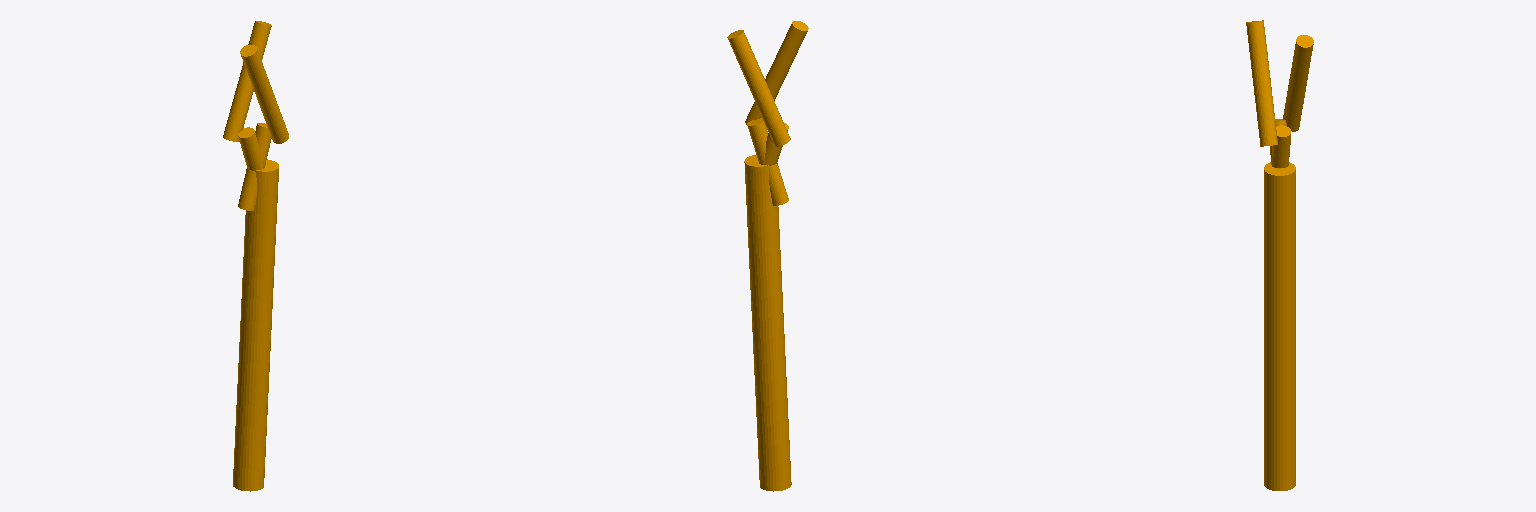
URDF robot description (lance_longinus):
<robot name="lance_longinus">
  <link name="base_link">
    <visual>
      <geometry>
        <cylinder length="0.2" radius="0.009"/>
      </geometry>
      <origin rpy="0 0.05 0" xyz="0 0 0.1"/>
    </visual>
    <visual>
      <geometry>
        <cylinder length="0.05" radius="0.005"/>
      </geometry>
      <origin rpy="0 0.3 0.2" xyz="0 0 0.2"/>
    </visual>
    <visual>
      <geometry>
        <cylinder length="0.05" radius="0.005"/>
      </geometry>
      <origin rpy="0 -0.3 0.2" xyz="0 0 0.2"/>
    </visual>
    <visual>
      <geometry>
        <cylinder length="0.07" radius="0.005"/>
      </geometry>
      <origin rpy="0 0.4 0.3" xyz="0 0.01 0.25"/>
    </visual>
    <visual>
      <geometry>
        <cylinder length="0.07" radius="0.005"/>
      </geometry>
      <origin rpy="0 -0.4 0.3" xyz="0 -0.01 0.25"/>
    </visual>
  </link>
</robot>

--- What the picture shows (computed from the rendered views, not written in the file) ---
The picture shows the robot from 3 angles, left to right: view 1: azimuth 30°, elevation 25°; view 2: azimuth 150°, elevation 25°; view 3: azimuth 270°, elevation 25°; orthographic projection.
Robot: lance_longinus — 1 links, 0 joints (none); root link base_link; default pose: every joint at zero.
Links seen in each view (by area): view 1: base_link; view 2: base_link; view 3: base_link.
Boxes of the visible links, x1,y1,x2,y2 form: base_link: (223,21,288,491); base_link: (727,21,808,491); base_link: (1246,20,1313,490).
Size in the robot's own frame: 0.0353 by 0.038 by 0.2845 metres.
Geometry: primitives only (box / cylinder / sphere), no mesh files.
